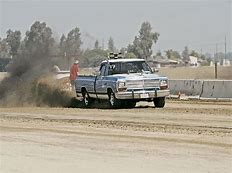smoke: (1, 57, 81, 108)
